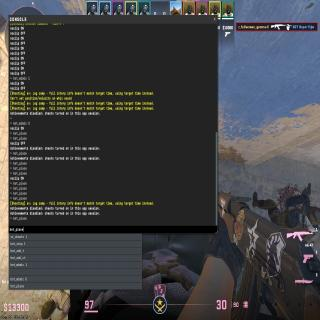CT-Body: (252, 190, 320, 232)
CT-Head: (307, 205, 320, 226)
